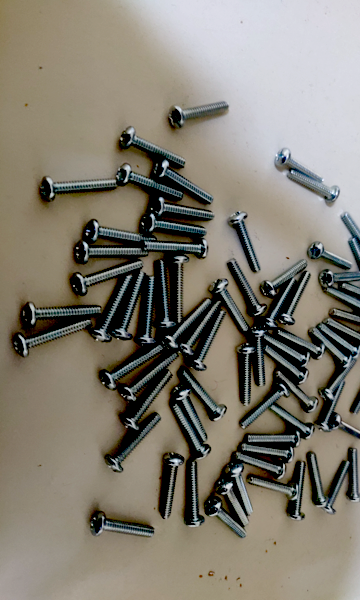longscrew: (108, 417, 162, 472), (95, 345, 164, 388), (104, 270, 145, 340), (95, 273, 136, 342), (12, 322, 94, 356), (123, 354, 179, 402), (127, 373, 174, 430), (163, 293, 209, 349), (155, 161, 212, 206), (74, 258, 143, 295), (183, 371, 227, 426), (179, 302, 220, 358), (120, 130, 185, 165), (171, 403, 210, 461), (228, 259, 267, 316), (229, 213, 268, 270), (115, 165, 184, 197), (19, 302, 103, 328), (195, 311, 227, 373), (31, 177, 124, 198), (261, 280, 299, 330), (242, 386, 288, 427), (87, 514, 158, 539), (167, 100, 228, 129), (179, 382, 208, 443), (313, 330, 357, 370), (213, 280, 247, 331), (153, 258, 177, 330), (263, 258, 306, 298), (275, 375, 320, 413), (167, 254, 191, 325), (159, 451, 183, 522), (217, 476, 251, 526), (280, 324, 324, 362), (265, 329, 309, 367), (265, 347, 309, 385), (282, 274, 314, 326), (133, 276, 156, 348), (272, 404, 316, 440), (85, 221, 155, 243), (323, 464, 352, 516), (148, 198, 213, 221), (76, 241, 147, 262), (234, 450, 287, 478), (209, 503, 247, 542), (323, 361, 360, 401), (226, 465, 253, 517), (320, 382, 347, 434), (278, 151, 323, 182), (190, 451, 206, 533), (319, 324, 360, 355), (251, 326, 271, 389), (145, 238, 211, 257), (287, 173, 340, 196), (236, 343, 255, 407), (144, 217, 205, 236), (309, 452, 329, 509), (309, 242, 354, 267), (239, 445, 297, 463), (291, 462, 308, 521), (245, 481, 298, 499), (245, 430, 303, 446), (325, 320, 360, 342), (329, 416, 360, 440), (344, 212, 360, 258), (348, 448, 360, 507), (323, 288, 360, 307), (319, 270, 360, 286), (350, 234, 360, 289), (327, 311, 360, 326), (353, 365, 360, 416), (342, 285, 360, 304)
